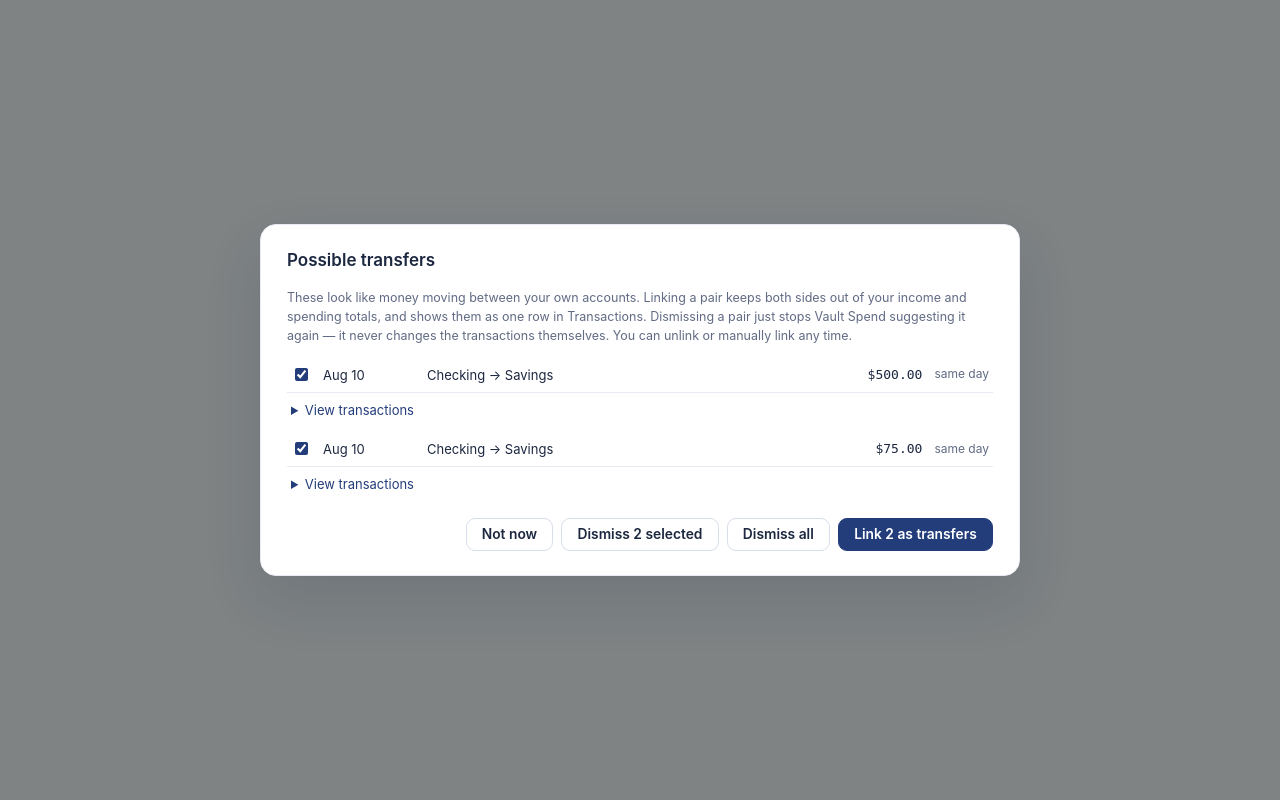
Test: TransferReviewDialog › keeps the dialog open and shows an inline error when a dismiss fails, instead of closing
Click the button "Dismiss 2 selected": click(640, 534) [561,518,719,551]
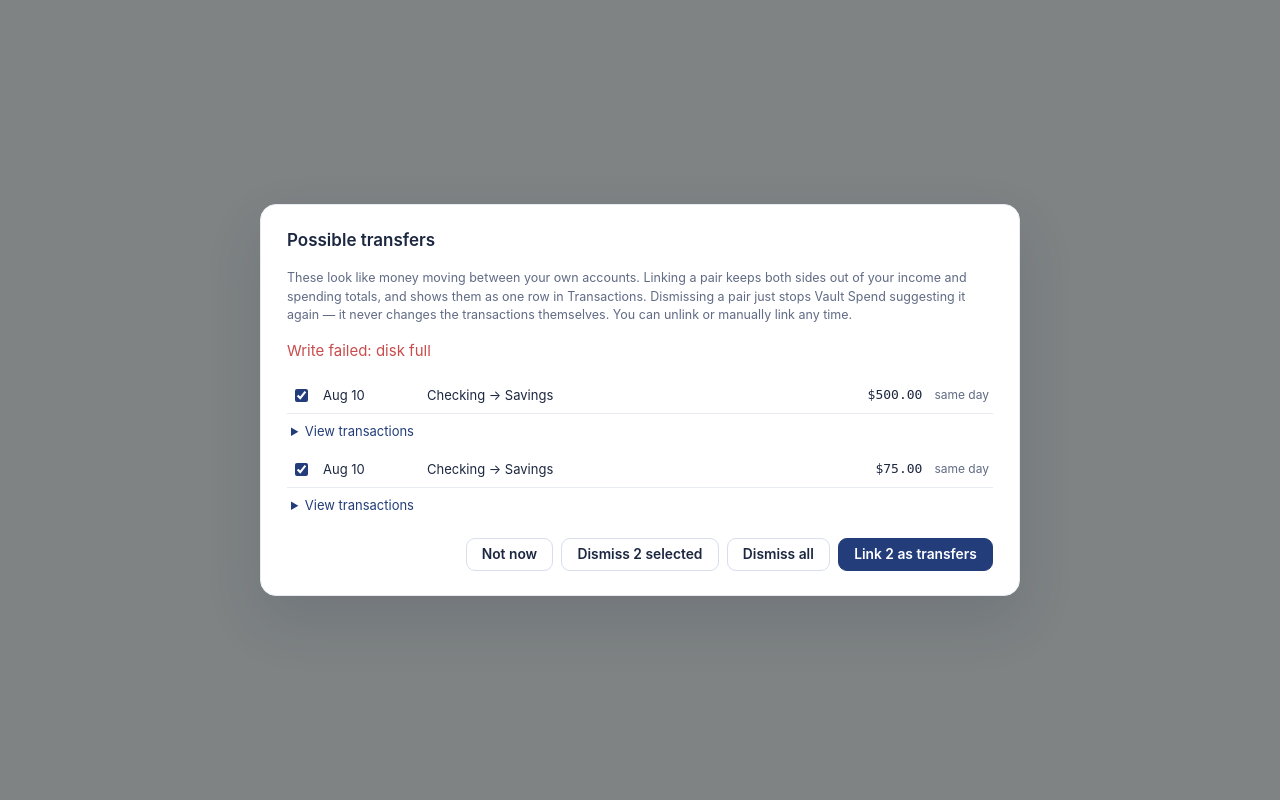
expect the number of labels with class "transfer-review-row" is 2: met, box [287,378,993,414]; [287,452,993,488]
expect the message "Write failed: disk full" is shown: met, box [287,341,431,360]
